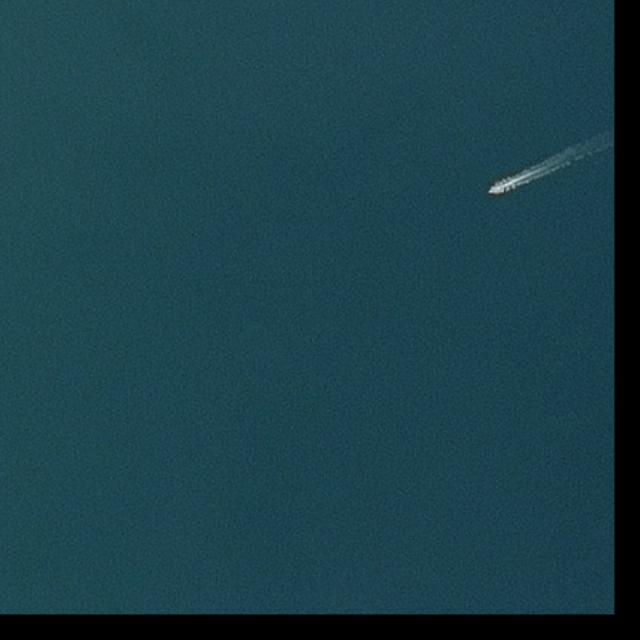ship: (489, 187, 497, 194)
